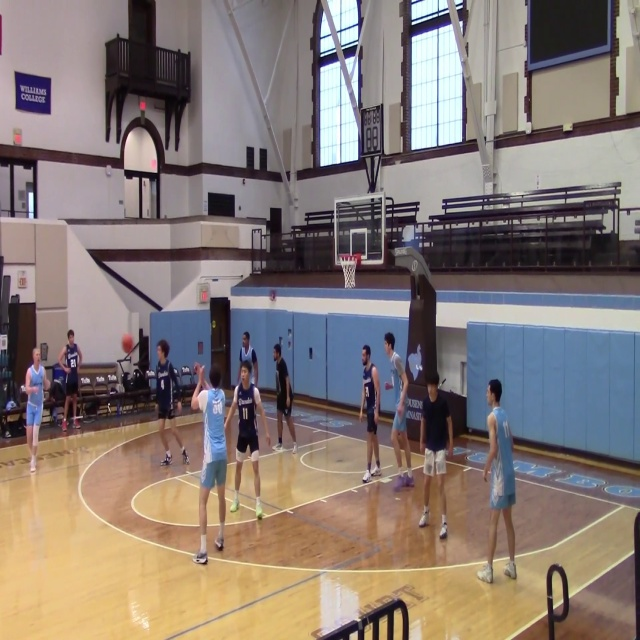Basketball: (121, 333, 133, 353)
